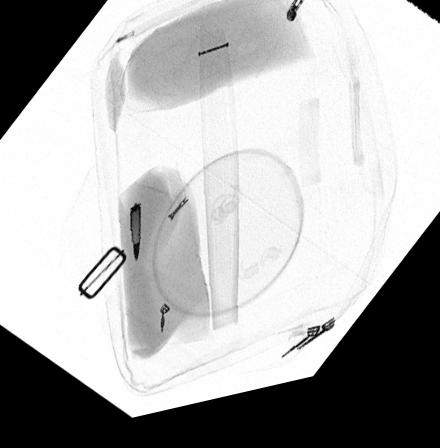Bullet: (128, 209, 140, 268)
